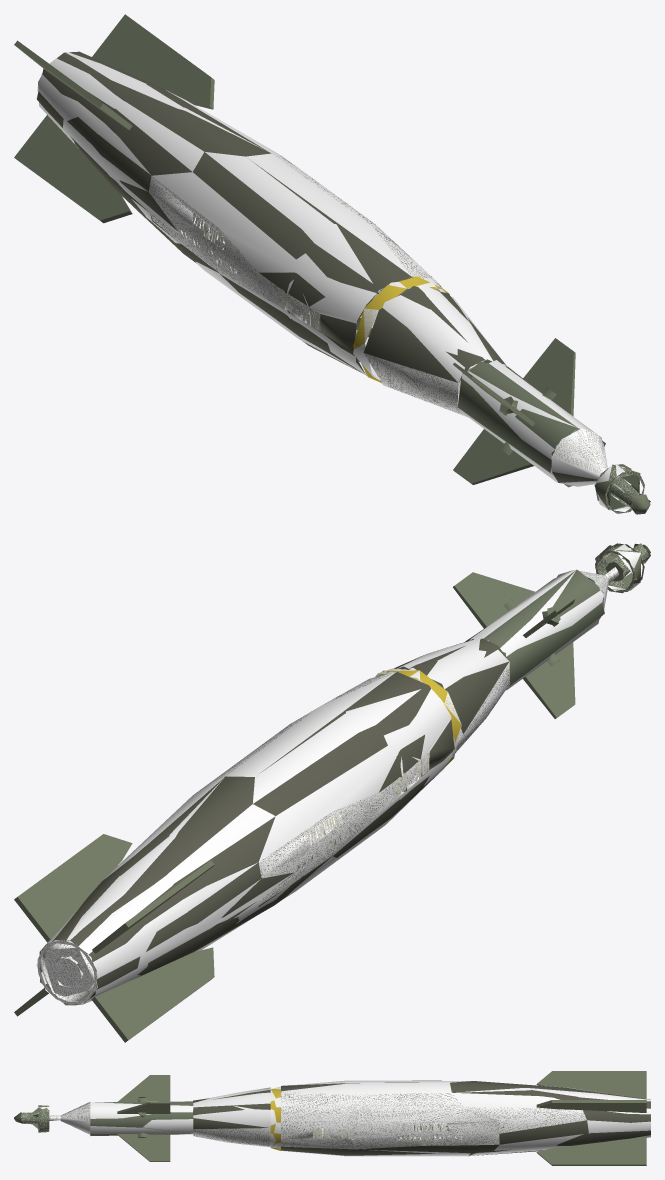
File: gbu12_paveway.obj
3 renders of one model, top to bottom at view 1: azimuth 30°, elevation 25°; view 2: azimuth 150°, elevation 25°; view 3: azimuth 270°, elevation 25°, orthographic. The views are drawn at different scales.
Parts seen in each view (by area): view 1: gbu12_paveway; view 2: gbu12_paveway; view 3: gbu12_paveway.
Boxes of the visible parts, x1,y1,x2,y2 form: gbu12_paveway: [14, 14, 650, 514]; gbu12_paveway: [14, 543, 650, 1042]; gbu12_paveway: [14, 1071, 650, 1165].
Size of the model in its own units: 0.0882 by 0.0872 by 0.7313.
